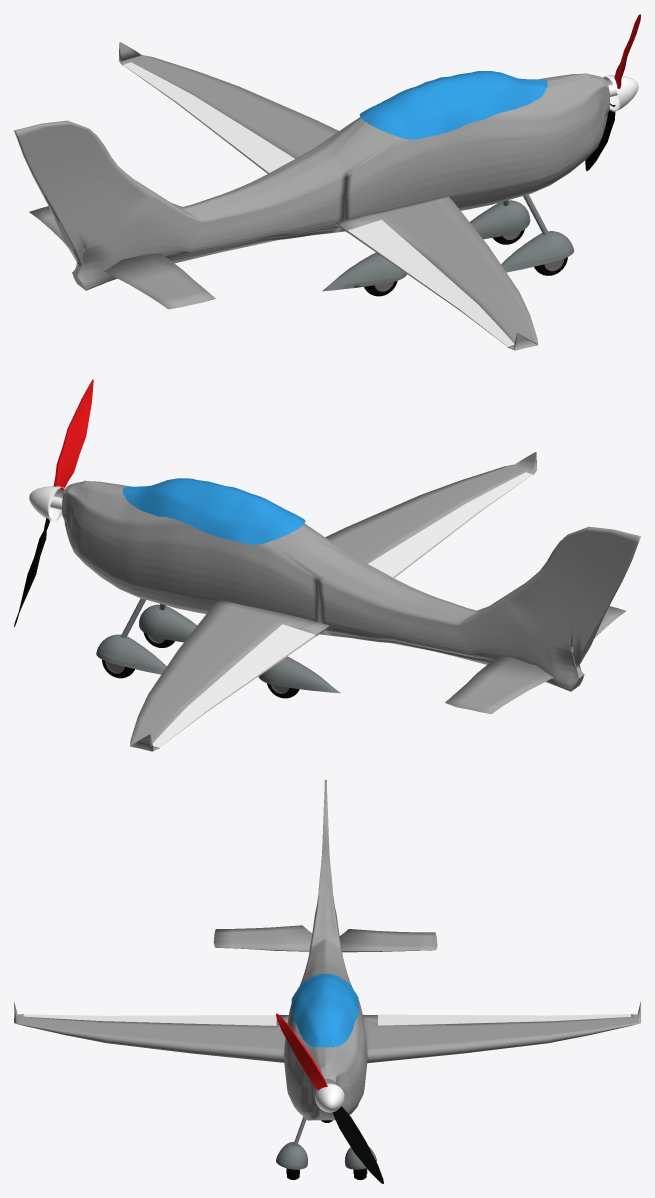
3 renders of one model, top to bottom at view 1: azimuth 30°, elevation 25°; view 2: azimuth 150°, elevation 25°; view 3: azimuth 270°, elevation 25°, orthographic. The views are drawn at different scales.
Visible parts, largest first — view 1: Plane.003_4, Circle_10, Plane.005_3, Plane.001_2, Cylinder_11, Cylinder.002_18, Cylinder.001_15, Sphere_7, Sphere.003_6; view 2: Plane.003_4, Circle_10, Plane.001_2, Plane.005_3, Cylinder.001_15, Sphere.002_5, Cylinder_11, Cylinder.002_18, Sphere_7, Sphere.003_6; view 3: Plane.003_4, Circle_10, Plane.001_2, Plane.005_3, Sphere.003_6, Sphere.002_5, Cylinder_11, Sphere_7.
Part boxes in pixels (bbox=[...]): Plane.003_4: bbox=[14, 42, 610, 350]; Circle_10: bbox=[359, 71, 547, 139]; Plane.005_3: bbox=[347, 219, 514, 346]; Plane.001_2: bbox=[123, 62, 294, 173]; Cylinder_11: bbox=[501, 194, 573, 272]; Cylinder.002_18: bbox=[322, 252, 406, 291]; Cylinder.001_15: bbox=[470, 200, 530, 239]; Sphere_7: bbox=[602, 75, 638, 111]; Sphere.003_6: bbox=[585, 103, 615, 170]; Plane.003_4: bbox=[62, 452, 640, 751]; Circle_10: bbox=[123, 478, 305, 544]; Plane.001_2: bbox=[152, 624, 315, 747]; Plane.005_3: bbox=[368, 472, 532, 577]; Cylinder.001_15: bbox=[96, 598, 166, 674]; Sphere.002_5: bbox=[53, 379, 93, 490]; Cylinder_11: bbox=[139, 604, 197, 642]; Cylinder.002_18: bbox=[258, 656, 340, 693]; Sphere_7: bbox=[29, 486, 65, 521]; Sphere.003_6: bbox=[14, 518, 50, 627]; Plane.003_4: bbox=[14, 780, 640, 1120]; Circle_10: bbox=[291, 973, 359, 1047]; Plane.001_2: bbox=[378, 1014, 631, 1025]; Plane.005_3: bbox=[23, 1014, 276, 1025]; Sphere.003_6: bbox=[332, 1106, 383, 1183]; Sphere.002_5: bbox=[276, 1013, 327, 1090]; Cylinder_11: bbox=[276, 1117, 307, 1169]; Sphere_7: bbox=[315, 1083, 344, 1112].
Size of the model in its own units: 3.26 by 1.26 by 3.58.
